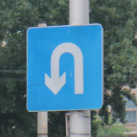u_turn: (26, 24, 104, 111)
